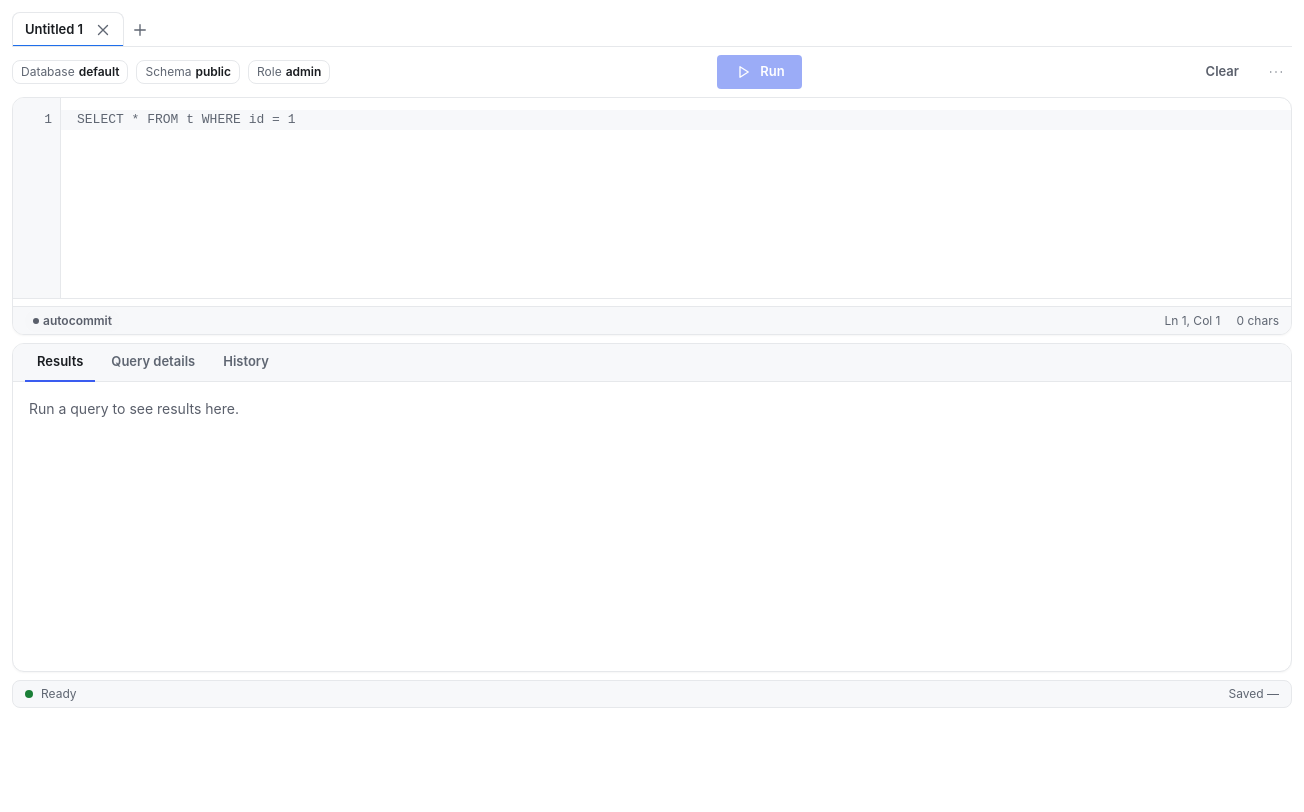
Scenario: SqlConsolePage › renders adversarial row content as inert text, never as executed HTML (item 93/94/126)
Type "SELECT payload FROM t" into the text box named "SQL".
click(676, 198); type("SELECT payload FROM t")  # box [61,98,1291,298]
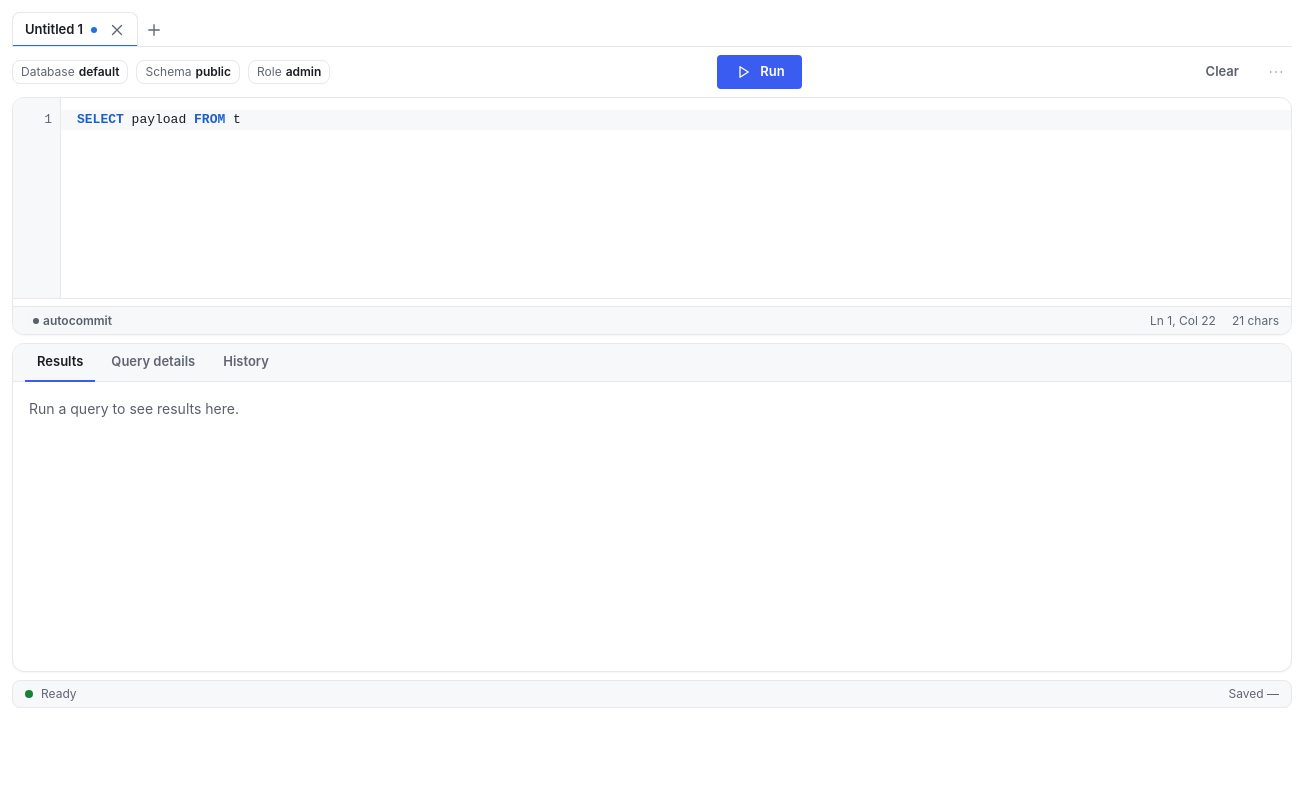
Click the button "Run".
click(760, 72)  # box [717,55,802,89]
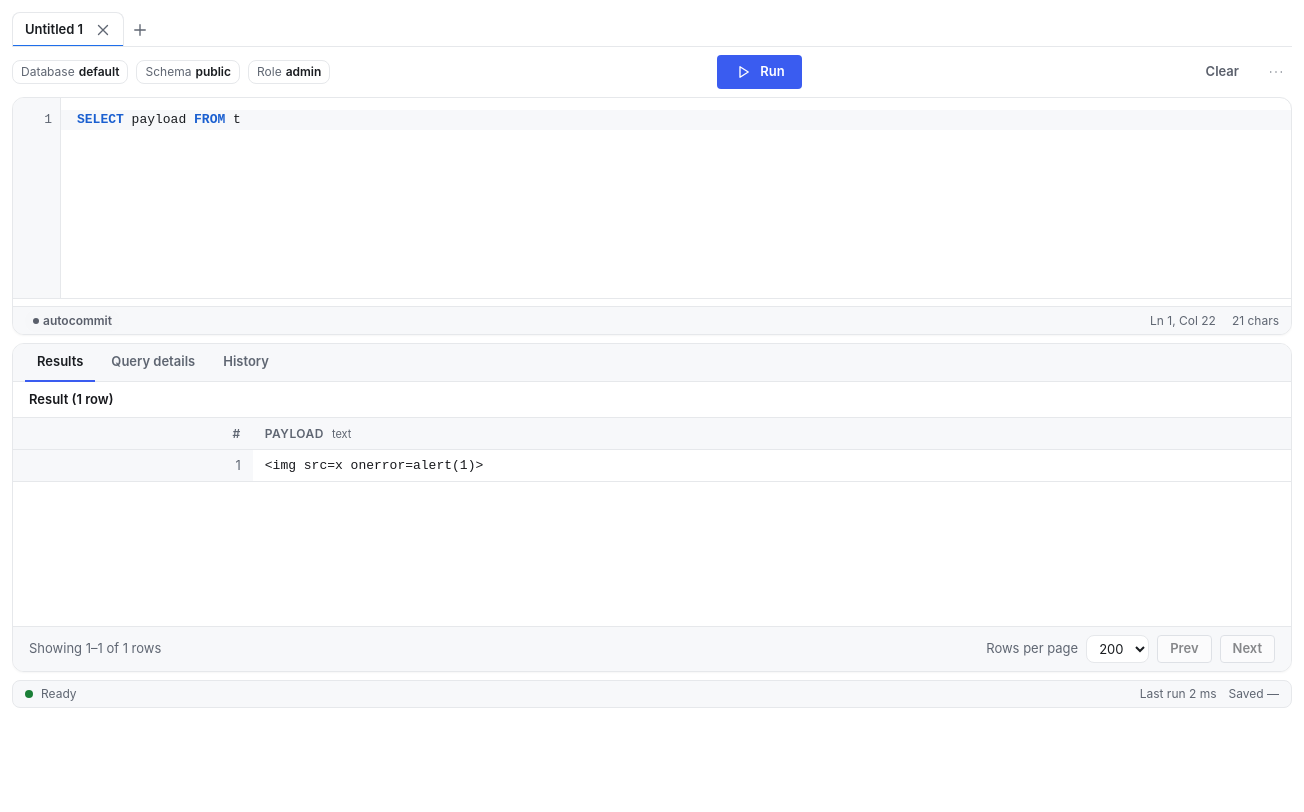
Now the text "<img src=x onerror=alert(1)>" is shown, box [253,450,1291,482]
